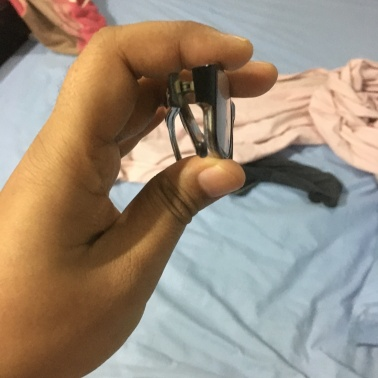glasses: (130, 49, 252, 174)
